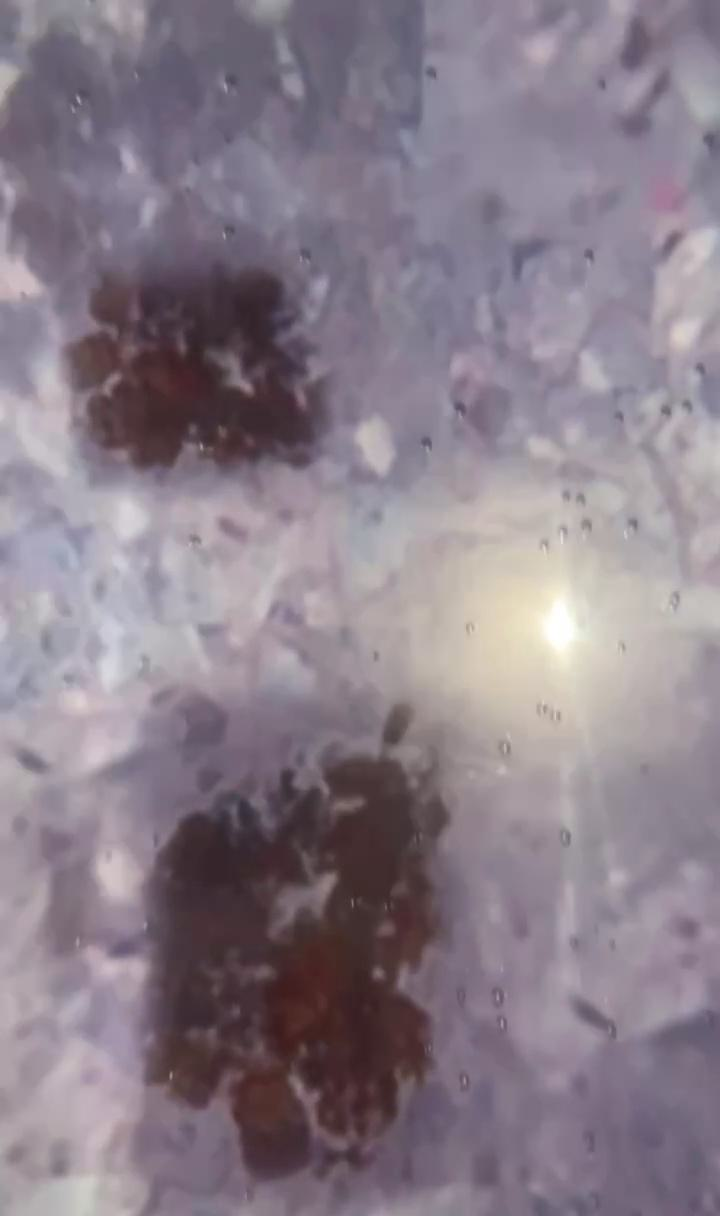Corrosion: (134, 701, 456, 1185), (56, 262, 328, 473)
